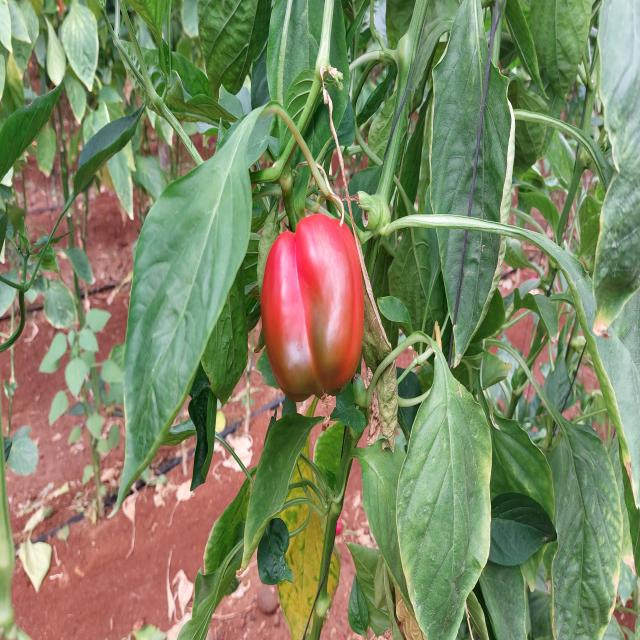Red-Ready-to-Harvest: (258, 197, 376, 425)
